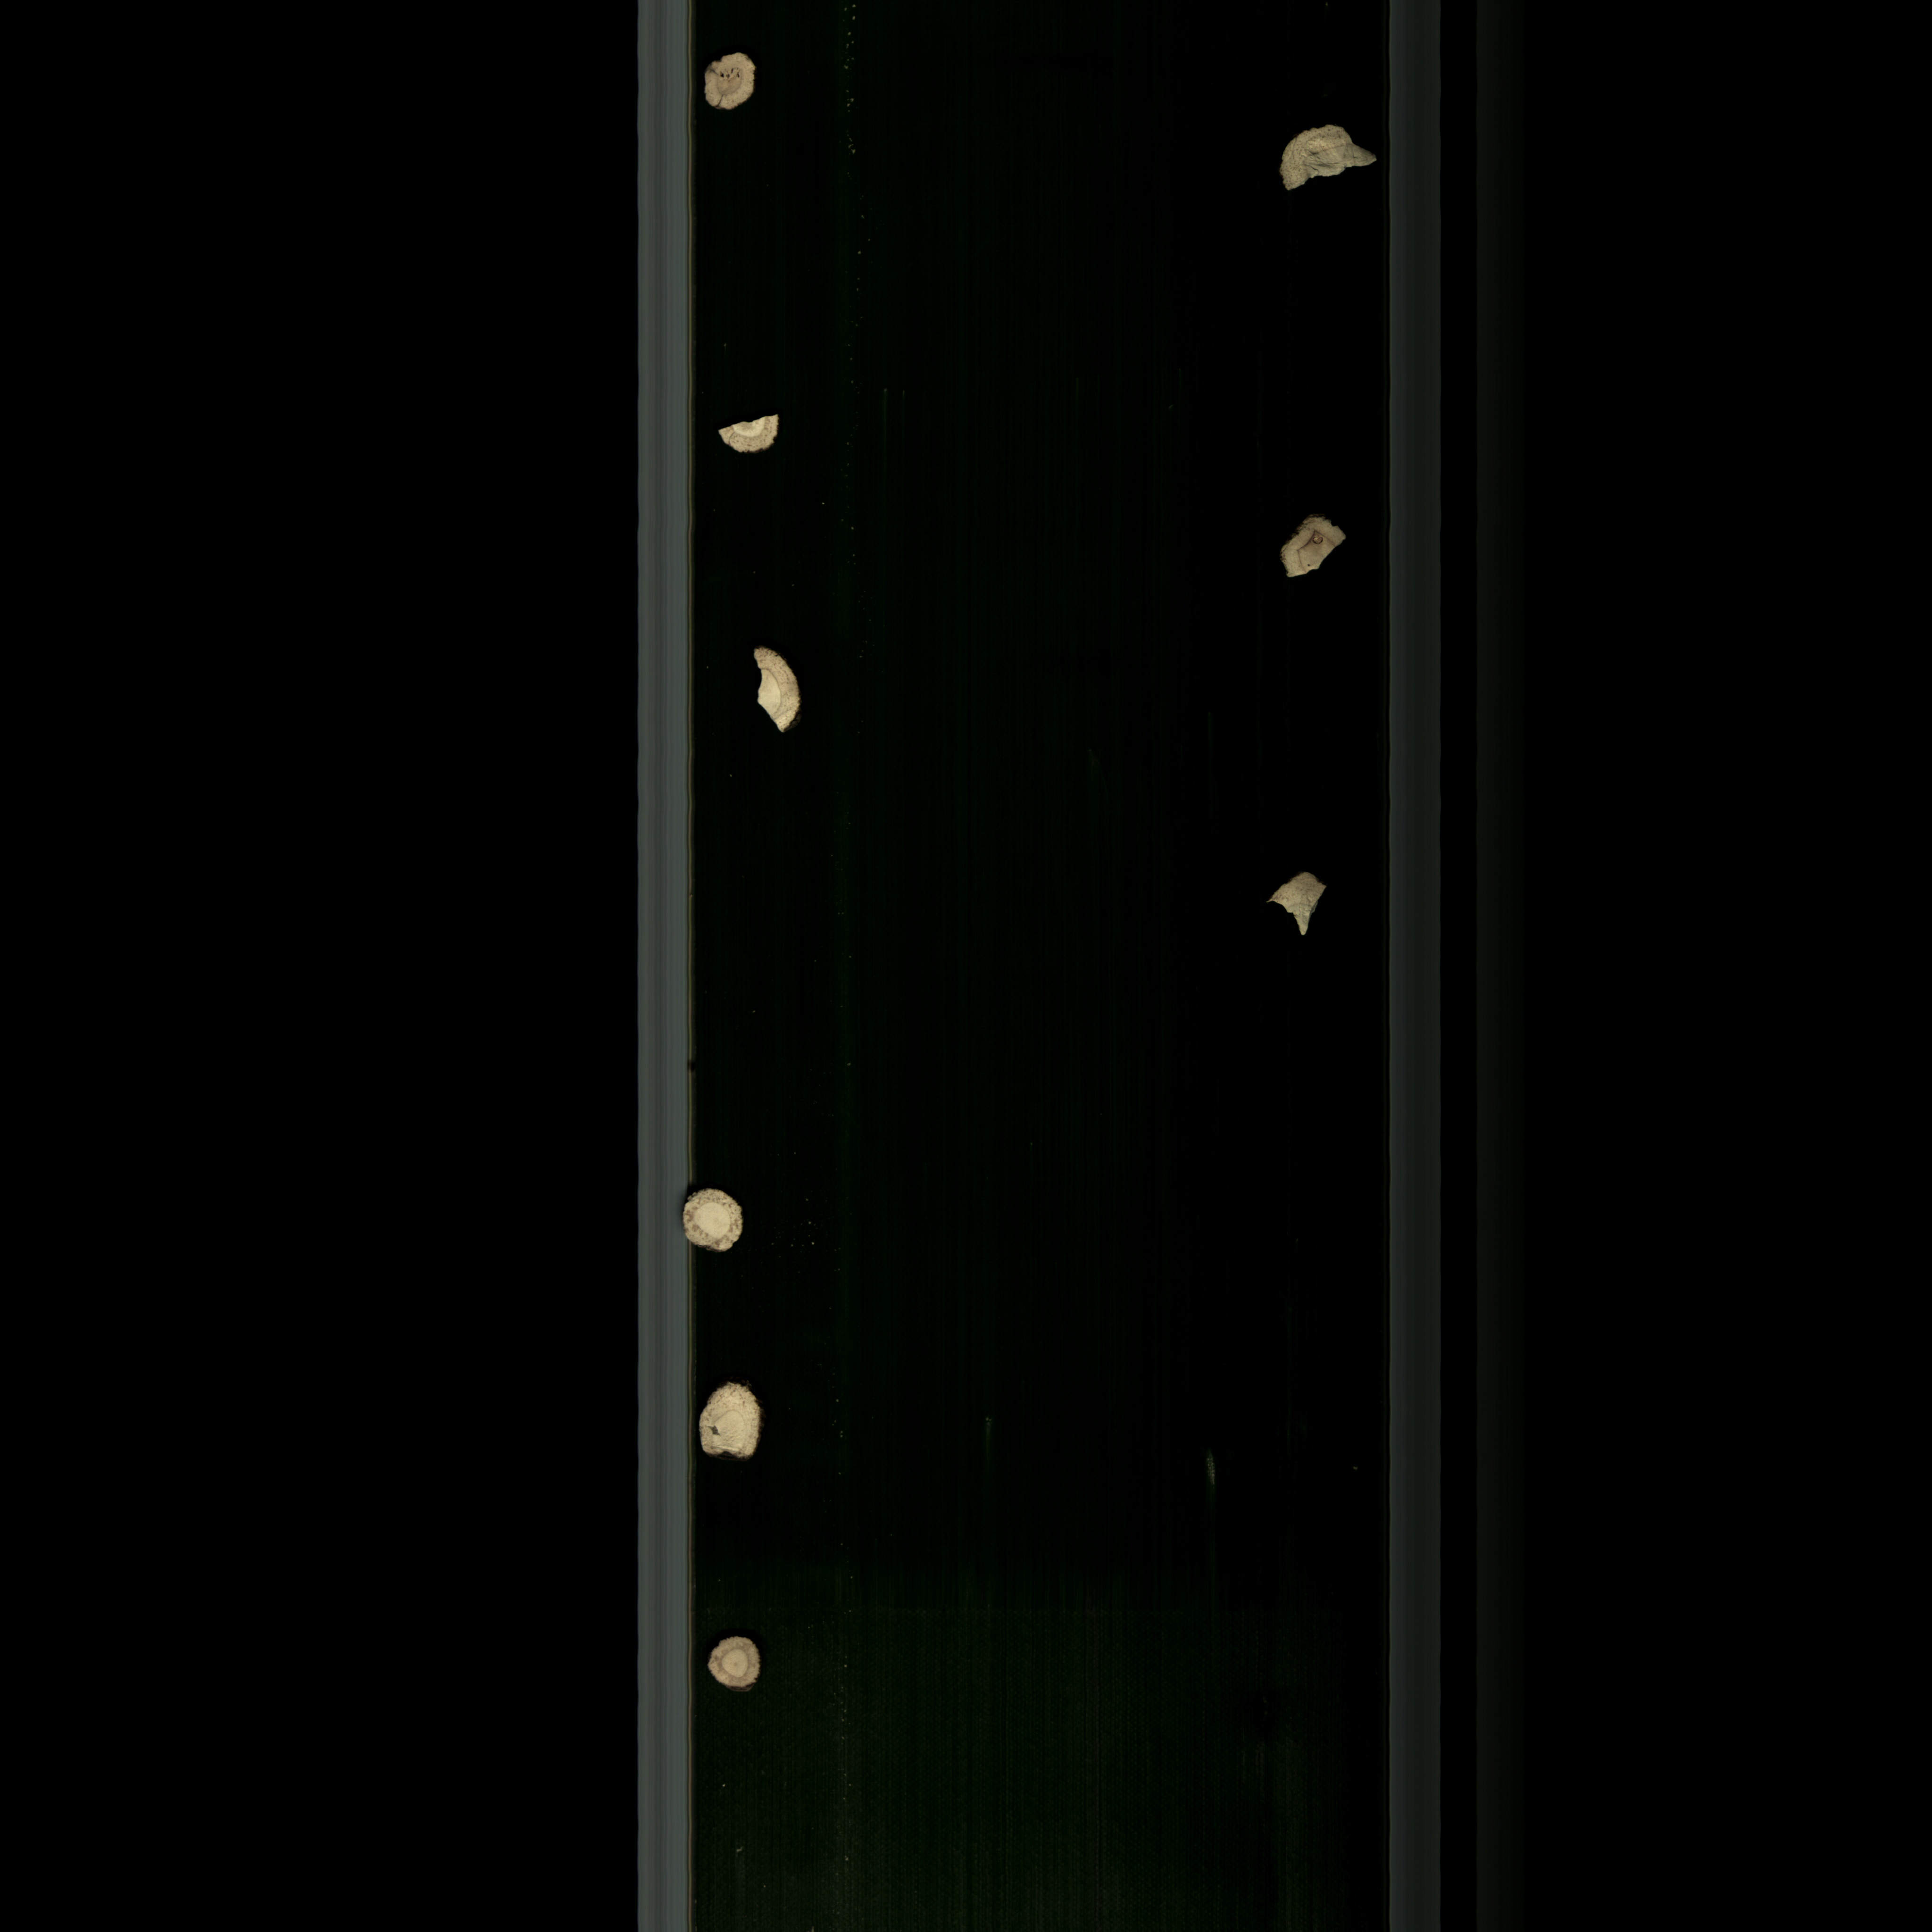debris: (1270, 120, 1387, 203), (741, 633, 810, 741), (701, 414, 791, 462)
distortion: (694, 1369, 775, 1476)
dreg: (1256, 856, 1330, 947)
hole: (699, 42, 770, 117)
moldy: (1265, 506, 1359, 598)
